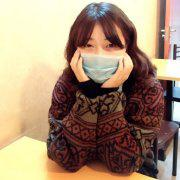OK: (74, 32, 123, 81)
